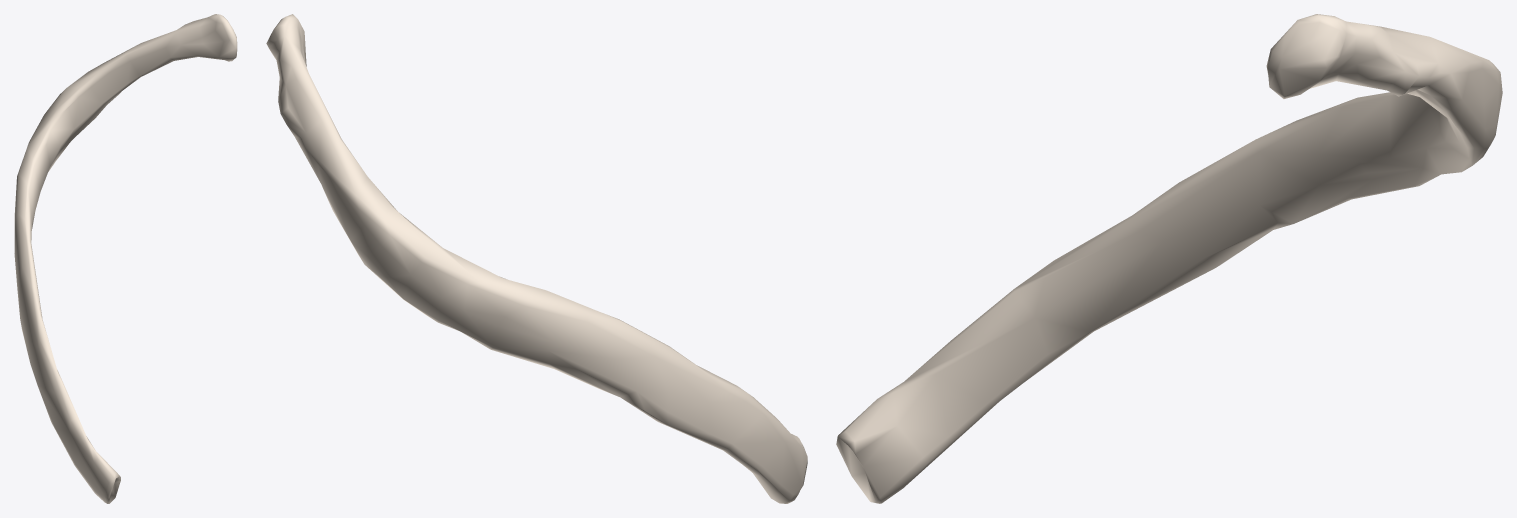
Rendered from right_rib_9.glb.
3 views of the same model, side by side, from view 1: azimuth 30°, elevation 25°; view 2: azimuth 150°, elevation 25°; view 3: azimuth 270°, elevation 25° (orthographic). The views are drawn at different scales.
Parts seen in each view (by area): view 1: Rib (9th).r; view 2: Rib (9th).r; view 3: Rib (9th).r.
Boxes of the visible parts, x1=… form: Rib (9th).r: x1=14, y1=14, x2=237, y2=503; Rib (9th).r: x1=266, y1=14, x2=807, y2=503; Rib (9th).r: x1=836, y1=14, x2=1502, y2=503.
Bounding box in the file's own units: 0.1161 × 0.155 × 0.1329.
